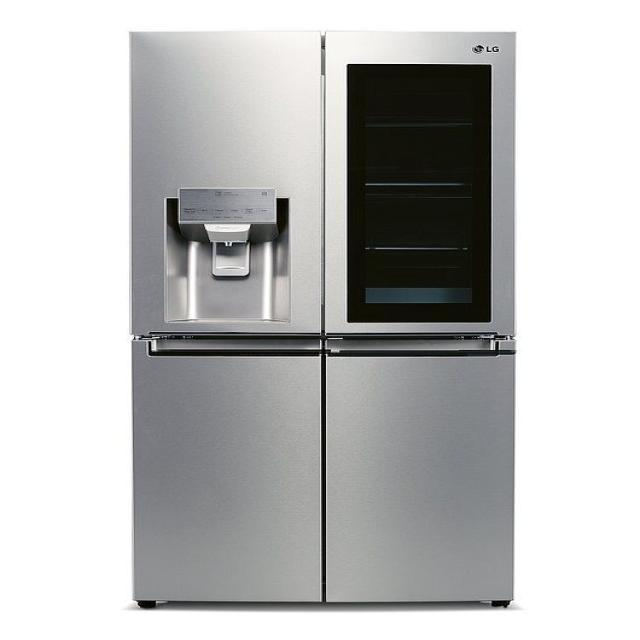obstacle: (128, 29, 518, 608)
